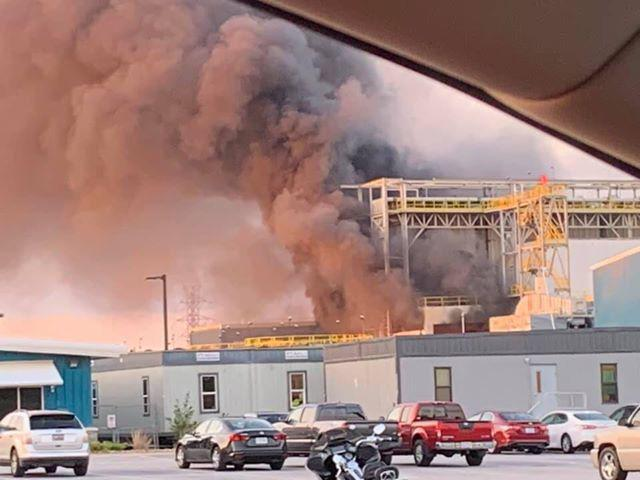smoke: (0, 33, 338, 265), (0, 269, 161, 312), (170, 269, 298, 319), (340, 60, 394, 172), (442, 129, 548, 177), (0, 2, 237, 21), (414, 238, 480, 298), (399, 87, 439, 177), (0, 20, 298, 32), (344, 190, 366, 331), (299, 267, 341, 331), (368, 267, 404, 327)
